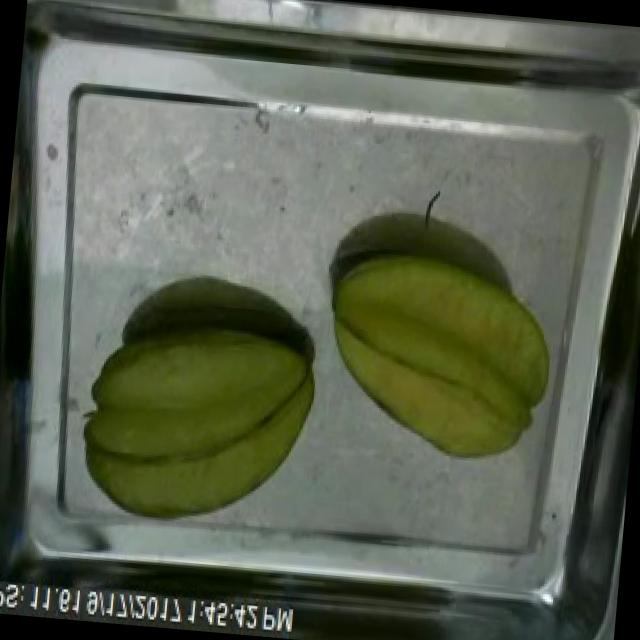fruit: (306, 231, 575, 480), (65, 304, 334, 539)
